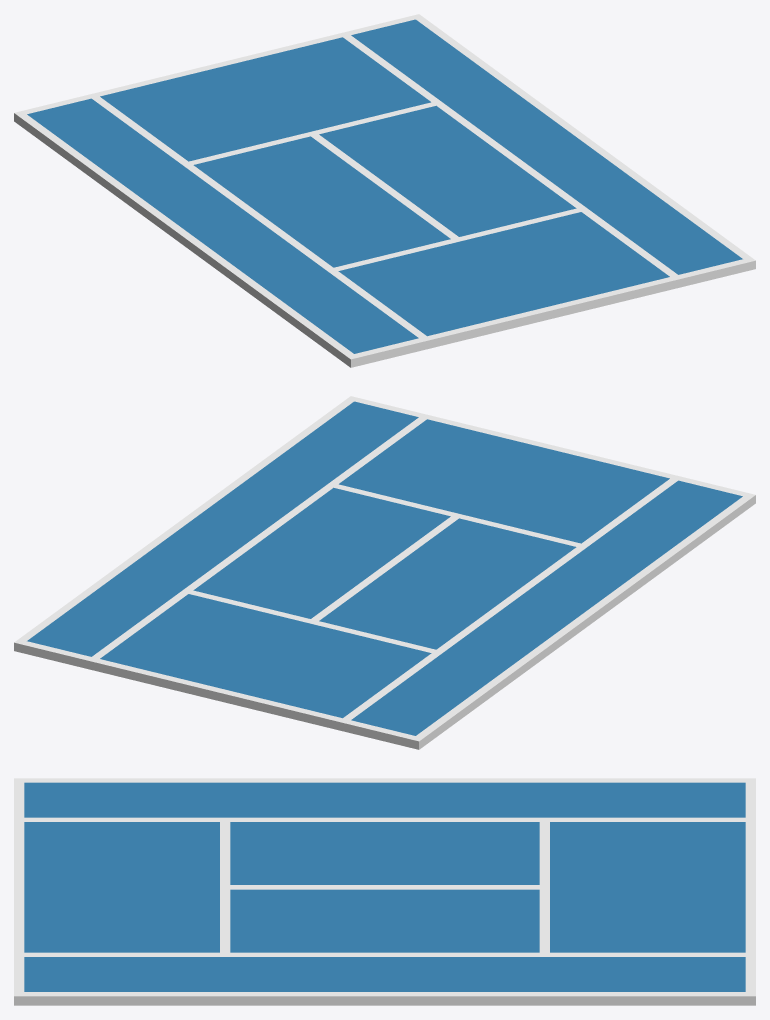
Rendered from Court5.fbx.
3 views of the same model, one above another, from view 1: azimuth 30°, elevation 25°; view 2: azimuth 150°, elevation 25°; view 3: azimuth 270°, elevation 25° (orthographic). The views are drawn at different scales.
Visible parts, largest first — view 1: mergedBlocks; view 2: mergedBlocks; view 3: mergedBlocks.
Part boxes in pixels (bbox=[...]): mergedBlocks: bbox=[14, 14, 755, 367]; mergedBlocks: bbox=[14, 396, 755, 749]; mergedBlocks: bbox=[14, 778, 755, 1005].
Bounding box in the file's own units: 50 × 1 × 72.
